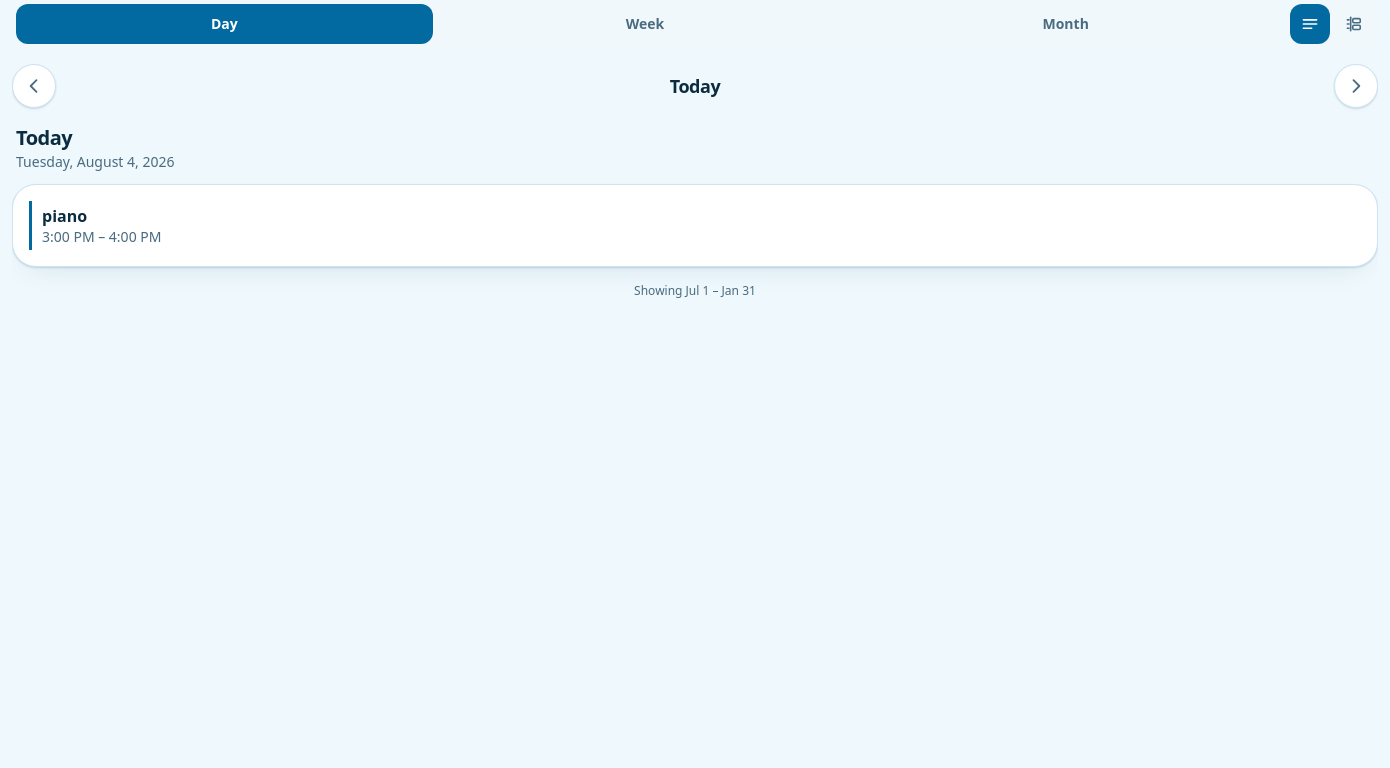
Test: the list / timeline toggle › switches the week to the hour grid
Click the tab "Week".
click(645, 24)  # box [437, 4, 853, 44]
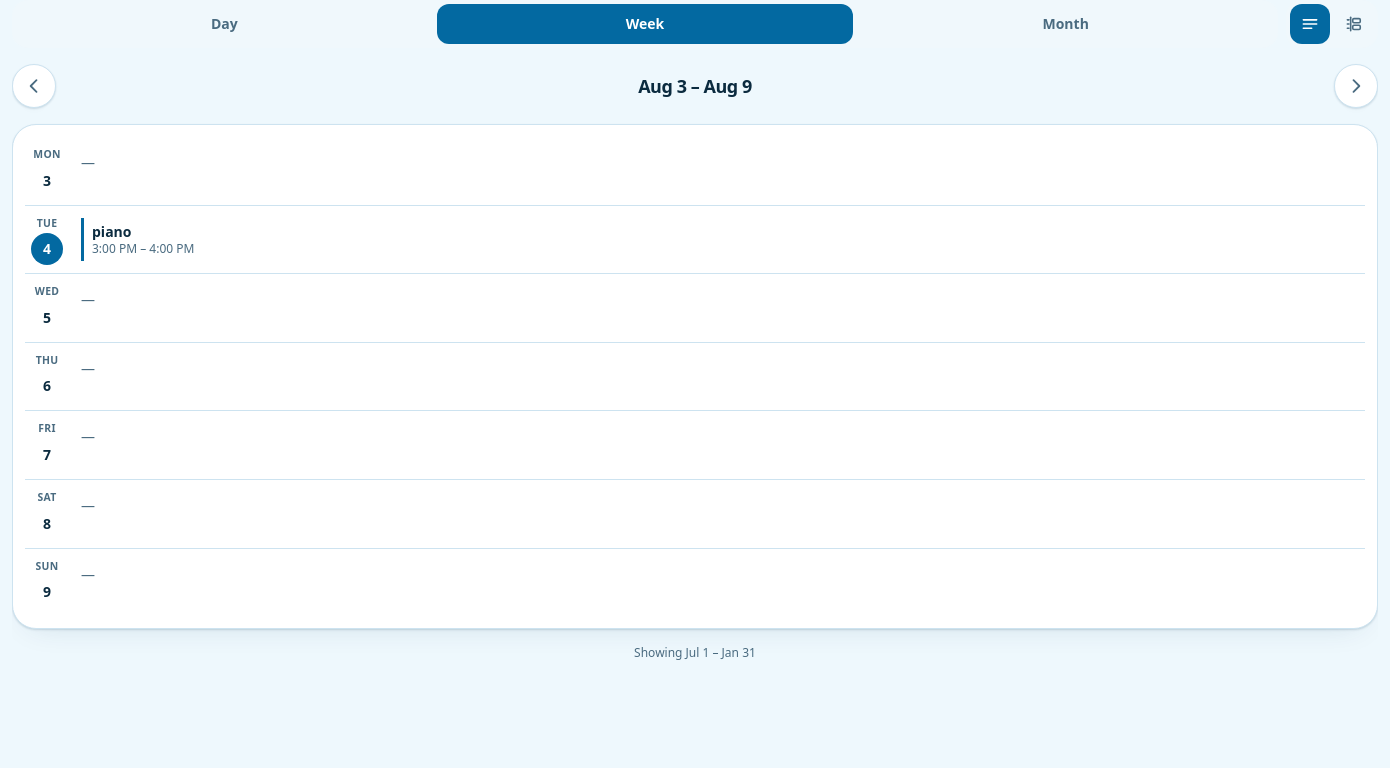
Click the button named "Timeline view".
click(1354, 24)  # box [1334, 4, 1374, 44]
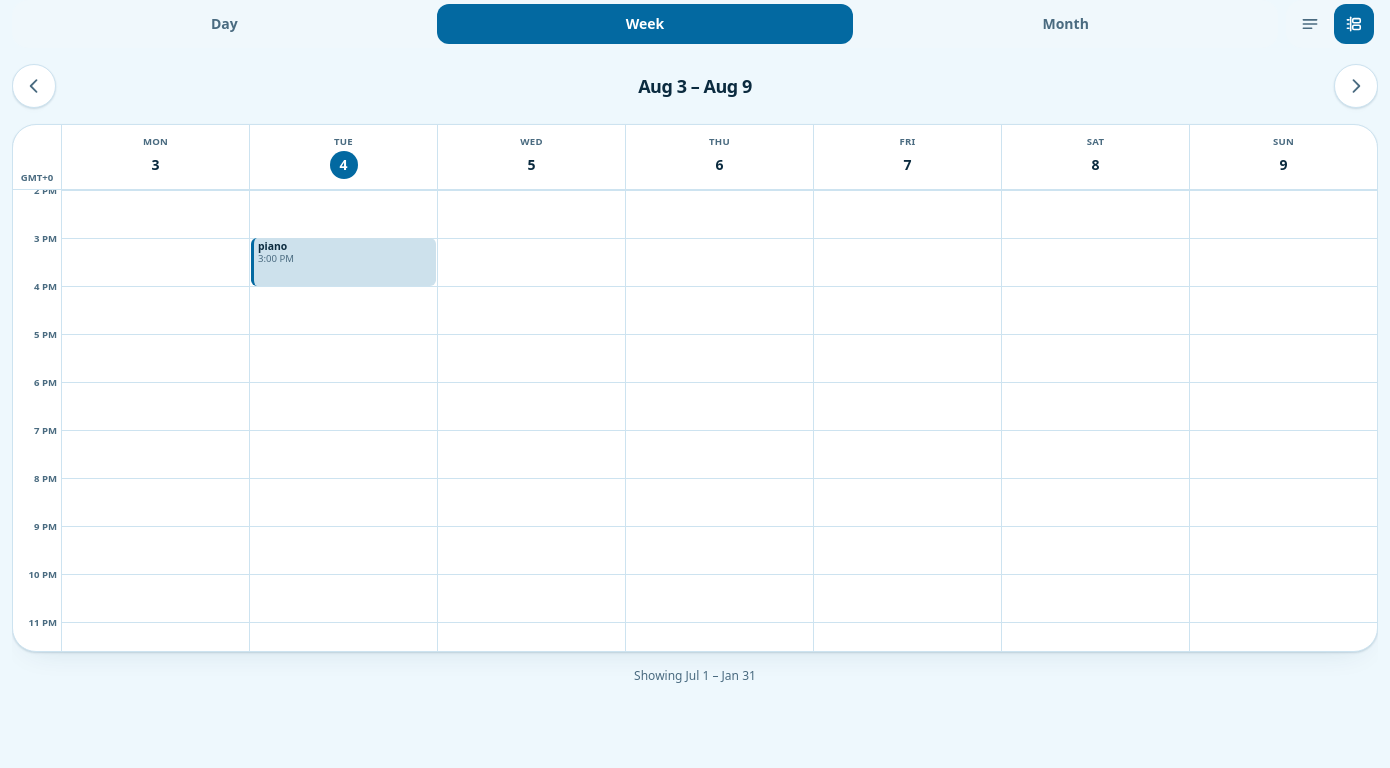
Expected: the text "piano" is shown, [258, 239, 287, 253]
Result: the element named "This week, by time" is shown
